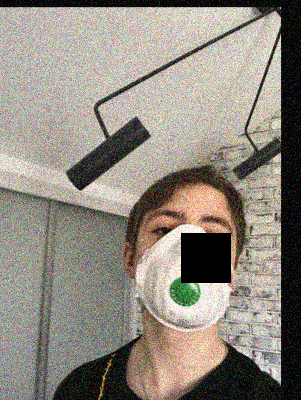with_mask: (134, 198, 235, 331)
